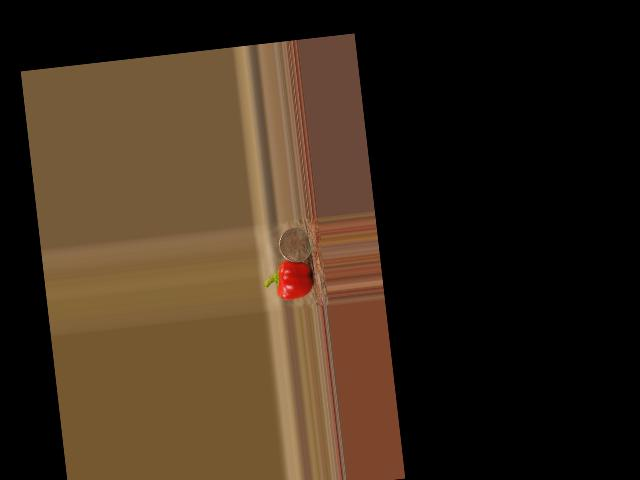bell_pepper: (262, 259, 316, 302)
